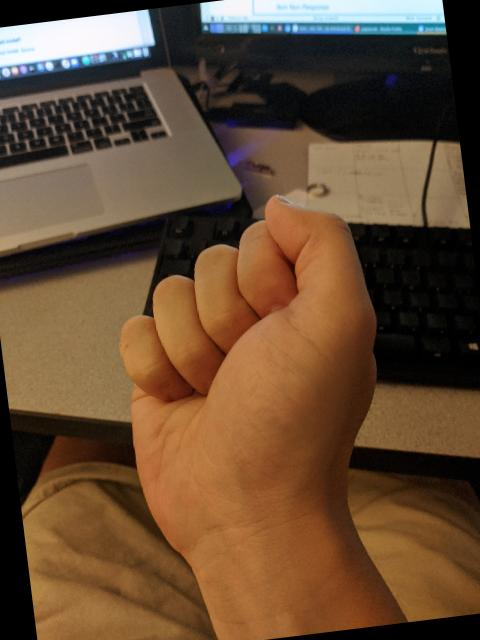A: (87, 180, 418, 582)
